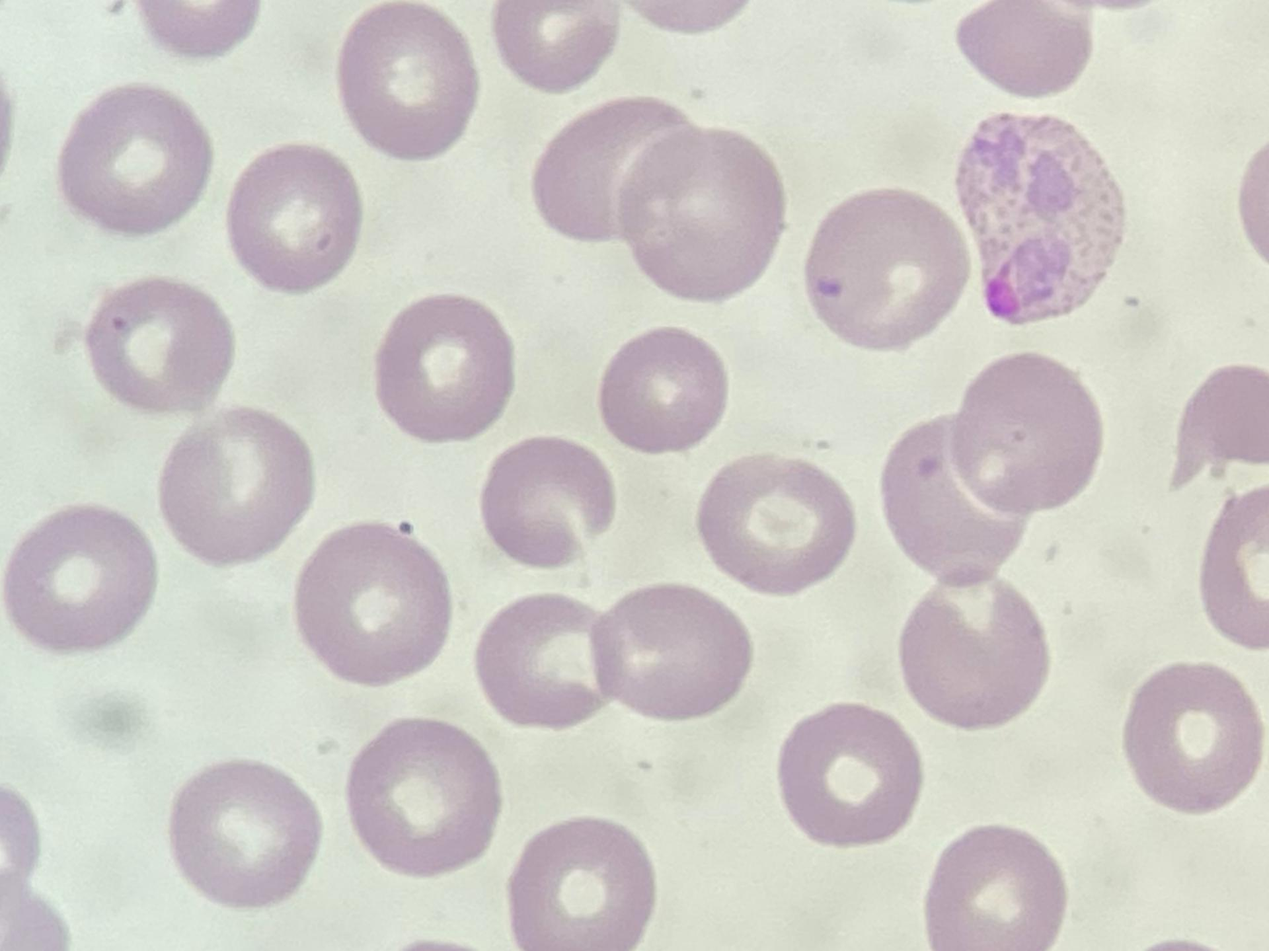Infected: (956, 104, 1124, 326)
Uninfected: (612, 133, 787, 306), (804, 186, 965, 351), (163, 402, 311, 570), (297, 527, 455, 684), (339, 5, 483, 170), (348, 719, 496, 878), (954, 344, 1091, 514), (590, 578, 746, 727), (905, 571, 1053, 725), (531, 93, 677, 243), (66, 84, 217, 227), (701, 455, 847, 602), (375, 292, 514, 446), (170, 759, 316, 905), (890, 419, 1022, 580), (1124, 659, 1259, 815), (9, 499, 154, 643), (93, 278, 236, 417), (778, 708, 918, 846), (471, 593, 612, 730), (509, 820, 652, 951), (482, 437, 620, 571), (227, 148, 357, 290), (925, 818, 1062, 951), (604, 327, 729, 448), (954, 0, 1094, 102)
